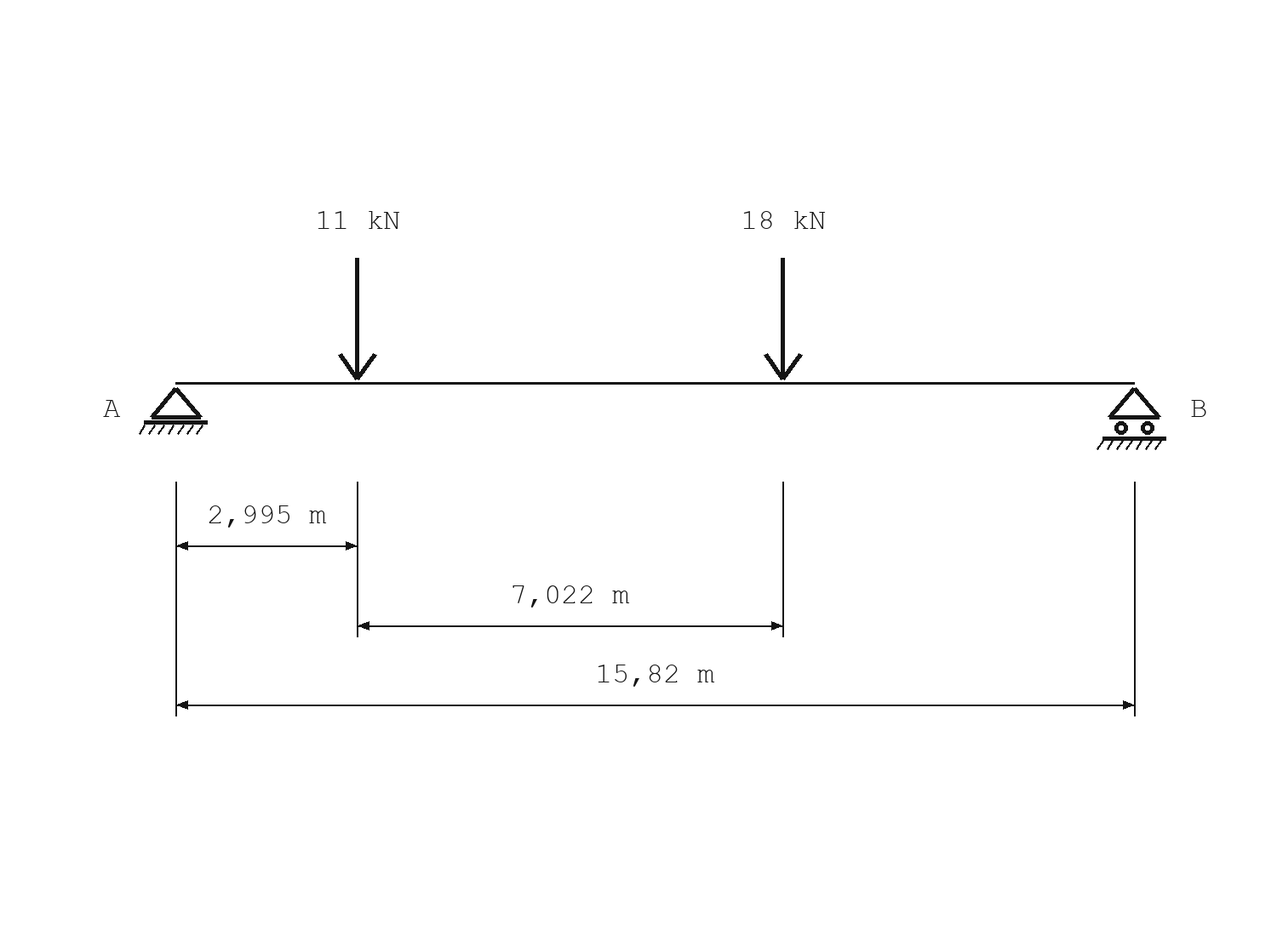pin_support: (139, 387, 208, 435)
point_load: (338, 258, 377, 380), (764, 258, 803, 380)
roller_support: (1097, 387, 1166, 450)
